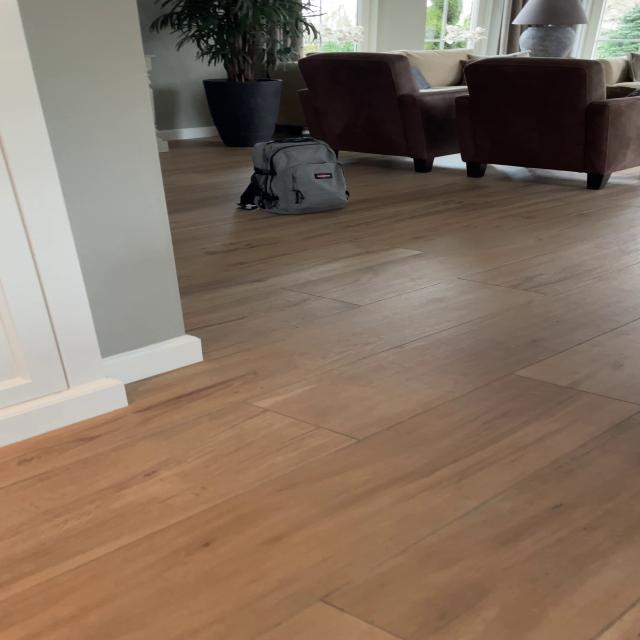backpack: (234, 130, 354, 218)
